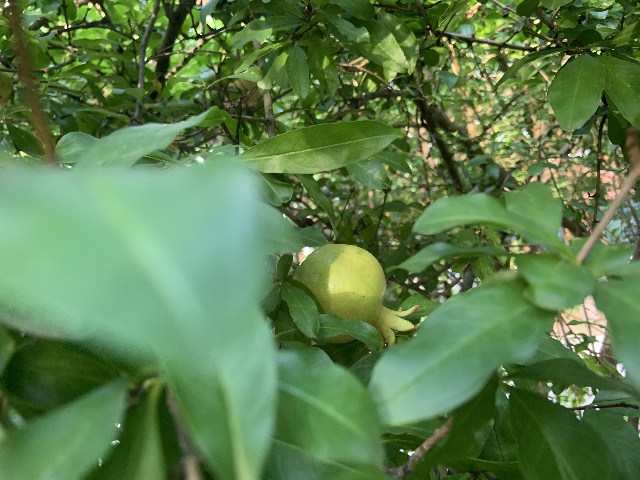mid-growth: (296, 243, 422, 349)
